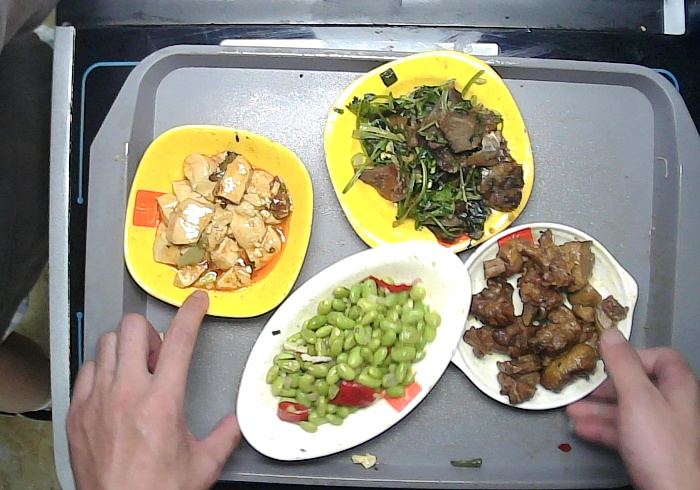SHKJ-Bao_Yu_Pan: (443, 219, 643, 412)
SHKJ-Huang_Se_Cai_Die: (121, 122, 319, 323)
SHKJ-Huang_Se_Si_Fang_Cai_Die: (320, 48, 537, 257)
SHKJ-Yu_Pan: (234, 238, 475, 464)
